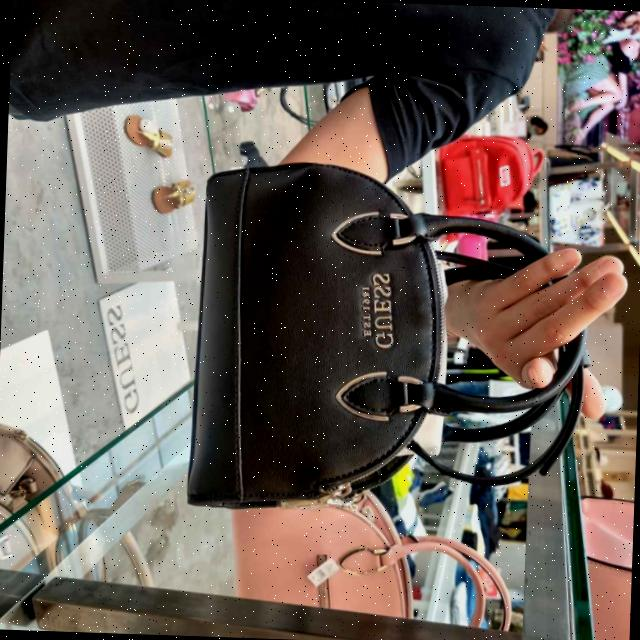Handbag: (188, 155, 590, 527)
